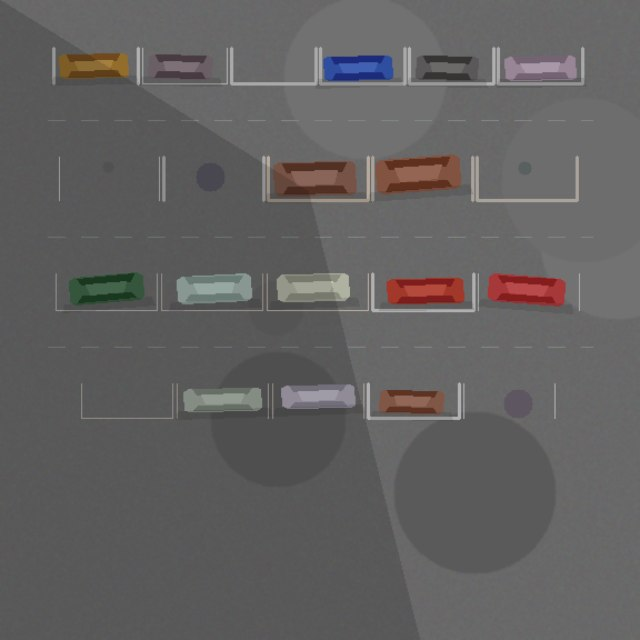space-empty: (59, 157, 159, 200), (163, 157, 263, 200), (477, 157, 577, 200), (81, 383, 172, 418), (463, 383, 554, 418), (231, 48, 316, 83)
space-occupied: (268, 157, 368, 200), (372, 157, 472, 200), (56, 273, 157, 310), (161, 273, 262, 310), (267, 273, 368, 310), (372, 273, 473, 310), (478, 273, 579, 310), (177, 383, 268, 418), (272, 383, 363, 418), (368, 383, 459, 418), (53, 48, 138, 83), (142, 48, 227, 83), (320, 48, 404, 83), (409, 48, 493, 83), (498, 48, 582, 83)
